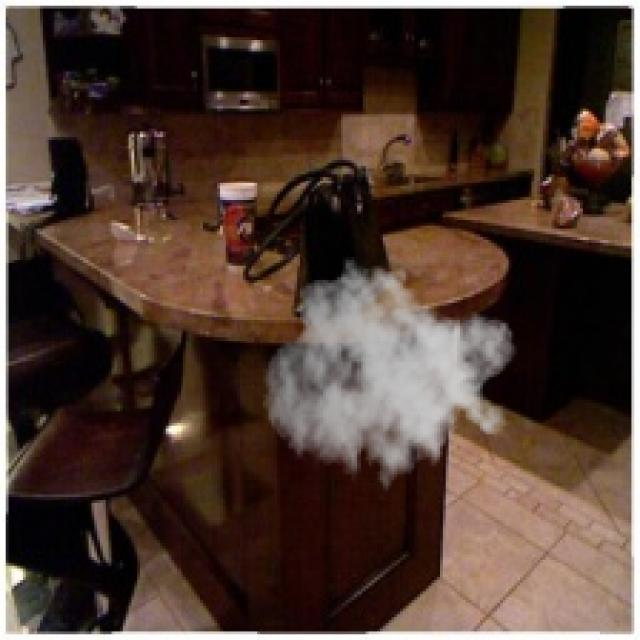smoke: (263, 251, 517, 503)
